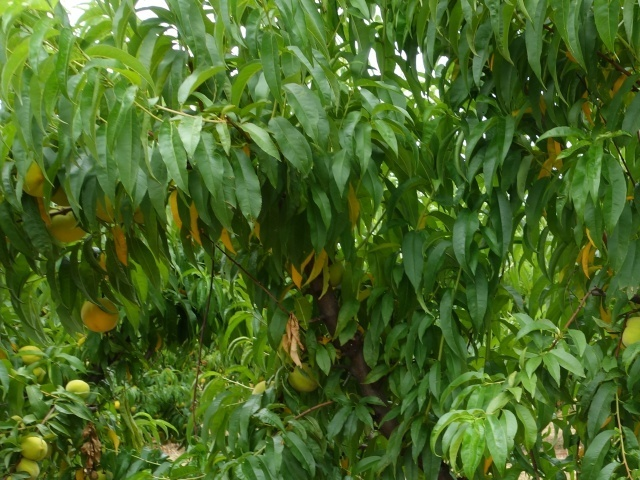peach: (41, 204, 86, 250), (13, 157, 57, 199), (76, 295, 122, 334), (283, 359, 321, 393), (15, 432, 51, 463), (9, 454, 44, 479), (619, 313, 640, 351), (63, 376, 93, 402), (15, 342, 46, 366)
